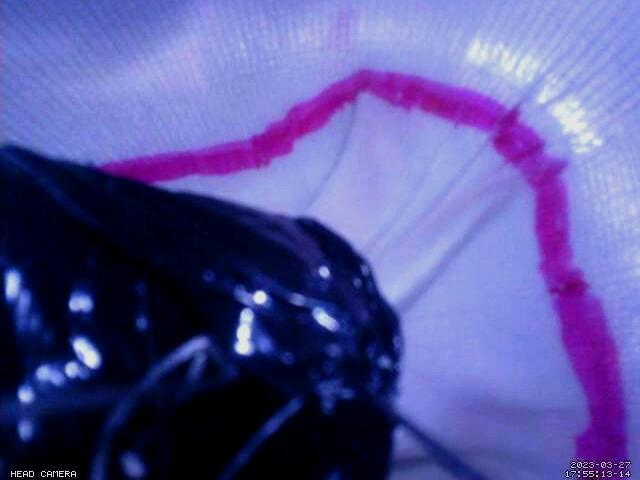red-circle: (96, 67, 628, 480)
